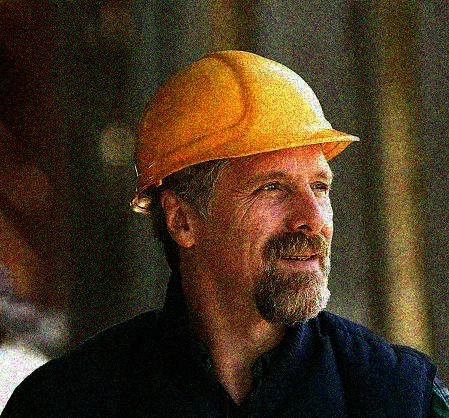helmet: (127, 47, 362, 330)
